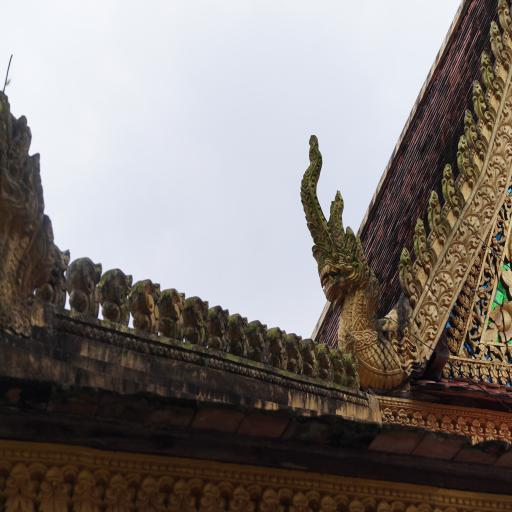la: (102, 469, 137, 512), (38, 464, 69, 512), (8, 460, 36, 512), (71, 466, 102, 512), (137, 470, 169, 512), (198, 477, 229, 512), (170, 474, 198, 512), (254, 483, 286, 512), (491, 302, 512, 342), (287, 484, 316, 512), (232, 479, 254, 512), (341, 492, 375, 512), (469, 416, 484, 444), (478, 283, 492, 312), (394, 406, 412, 428), (498, 419, 512, 445), (454, 414, 469, 438), (319, 494, 338, 512), (489, 343, 507, 362), (484, 261, 497, 286), (380, 405, 395, 426), (501, 269, 512, 297), (439, 414, 454, 434), (449, 312, 464, 332), (470, 309, 484, 330), (426, 411, 439, 433), (492, 236, 505, 258), (412, 410, 426, 430), (466, 328, 480, 348), (485, 420, 497, 443), (448, 322, 461, 343), (447, 334, 459, 354), (496, 215, 508, 235), (504, 194, 512, 222), (470, 362, 480, 382), (480, 363, 490, 383), (476, 342, 487, 360), (450, 358, 460, 377), (490, 365, 500, 384), (442, 357, 451, 378), (459, 359, 469, 377), (454, 302, 465, 318), (507, 231, 512, 266), (499, 365, 508, 384), (459, 293, 470, 308), (466, 272, 476, 287), (463, 283, 474, 296), (508, 363, 512, 388), (475, 255, 483, 266), (471, 264, 478, 276)
lua: (100, 266, 134, 325), (130, 275, 163, 335), (69, 253, 100, 316), (50, 243, 69, 312), (161, 286, 185, 340), (426, 188, 449, 243), (185, 297, 209, 347), (210, 303, 232, 351), (417, 297, 440, 342), (413, 217, 432, 271), (399, 245, 417, 302), (231, 312, 251, 358), (250, 318, 270, 361), (444, 164, 462, 211), (269, 326, 288, 368), (447, 239, 468, 277), (432, 268, 454, 304), (476, 184, 497, 221), (470, 79, 488, 121), (461, 214, 481, 251), (489, 19, 505, 65), (287, 332, 304, 375), (455, 137, 473, 177), (301, 335, 317, 379), (464, 108, 480, 149), (314, 343, 331, 381), (490, 154, 508, 188), (331, 344, 345, 384), (497, 124, 512, 159), (345, 350, 360, 383), (480, 52, 493, 90), (499, 0, 512, 32), (502, 101, 512, 125)
ran: (297, 144, 412, 388), (0, 96, 50, 337)
